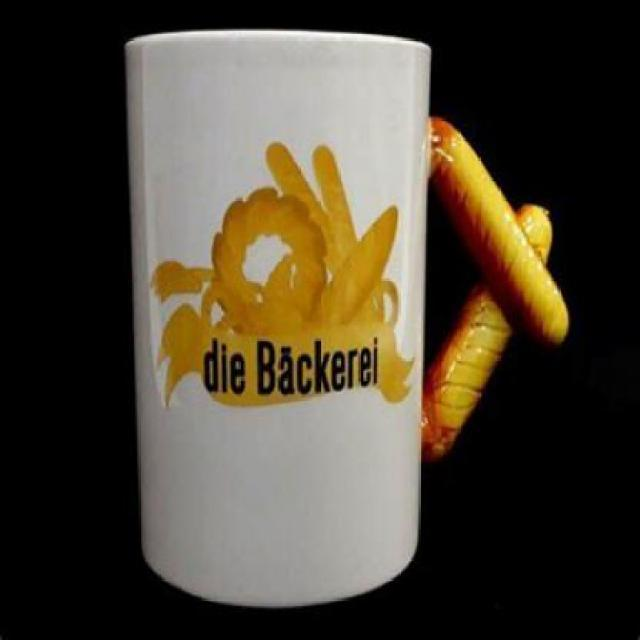taza: (84, 18, 572, 612)
